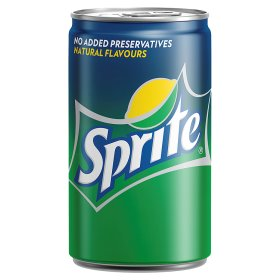can: (65, 4, 216, 275)
